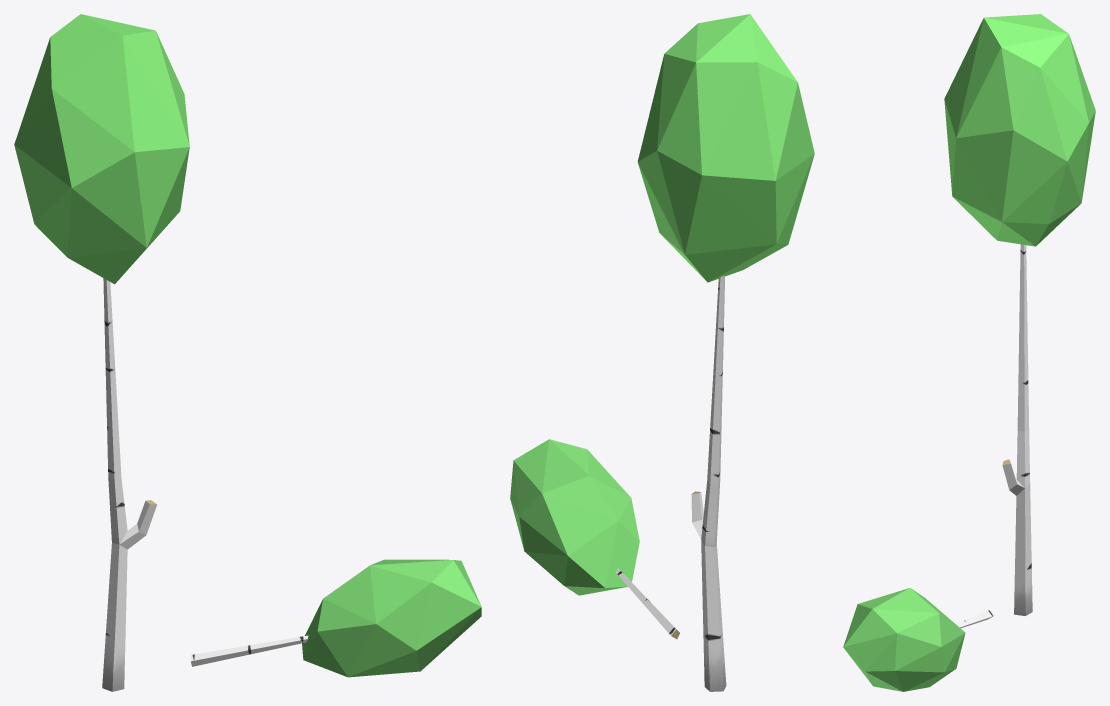
The model's file is Birch_Tree_crk_m_01.fbx.
3 views of the same model, side by side, from view 1: azimuth 30°, elevation 25°; view 2: azimuth 150°, elevation 25°; view 3: azimuth 270°, elevation 25° (orthographic). The views are drawn at different scales.
Visible parts, largest first — view 1: Birch_Tree_crk_m_01; view 2: Birch_Tree_crk_m_01; view 3: Birch_Tree_crk_m_01.
Part boxes in pixels (x1,y1,x2,y2): Birch_Tree_crk_m_01: [14, 14, 481, 691]; Birch_Tree_crk_m_01: [510, 14, 814, 691]; Birch_Tree_crk_m_01: [843, 14, 1095, 691].
Size of the model in its own units: 521 by 924 by 359.
